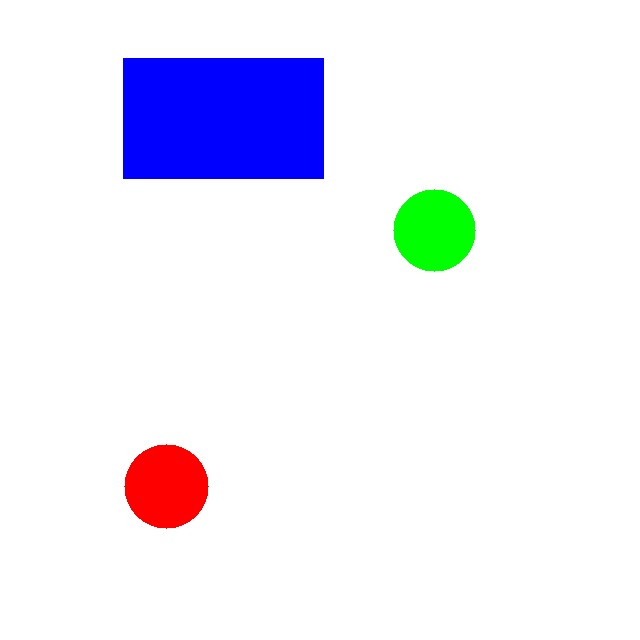cartao: (123, 58, 323, 178)
rosca_externa: (393, 189, 475, 271)
rosca_interna: (124, 444, 208, 528)
